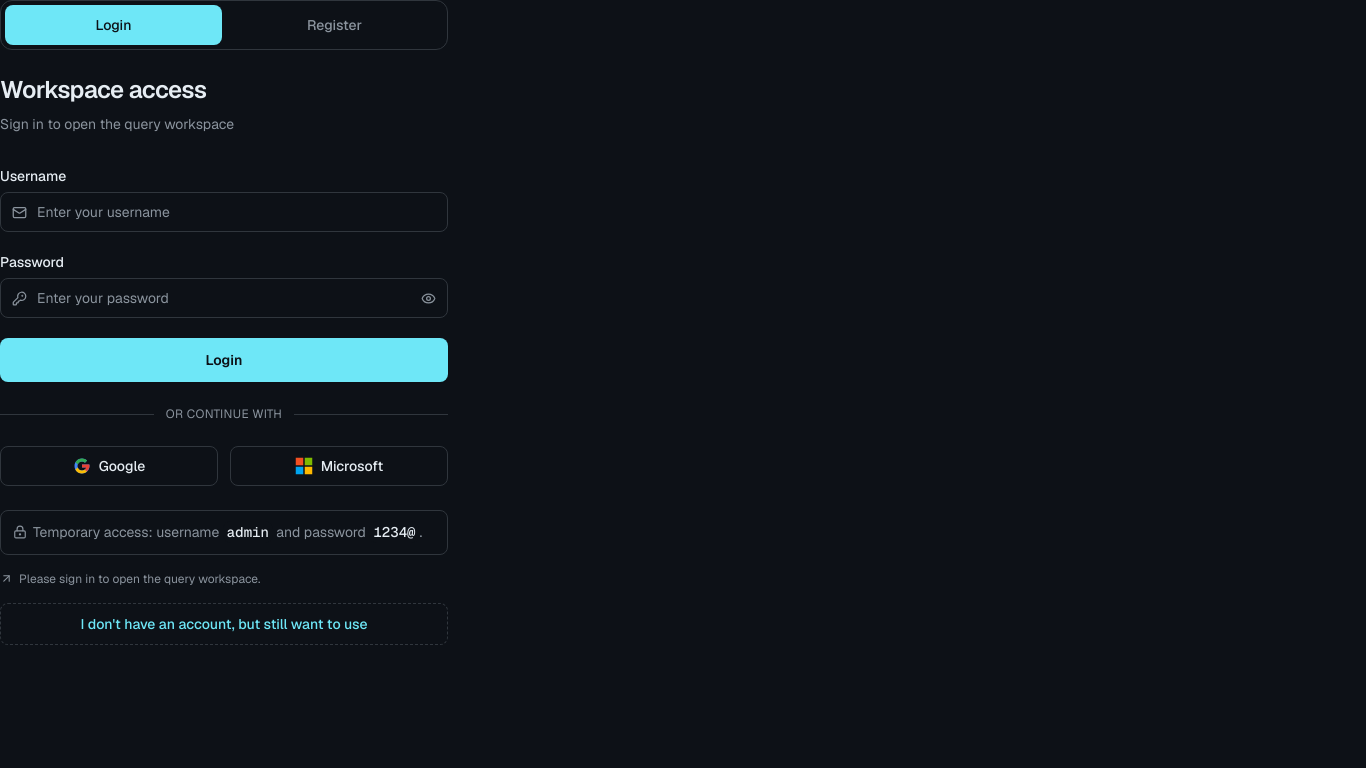
U35/U37-U41 — the disclosure dialog › U37 dismisses without creating a session or navigating
The width and height of the screenshot is (1366, 768).
Step 1. Click the button "I don't have an account, but still want to use" → (224, 624), box x1=0 y1=603 x2=448 y2=645
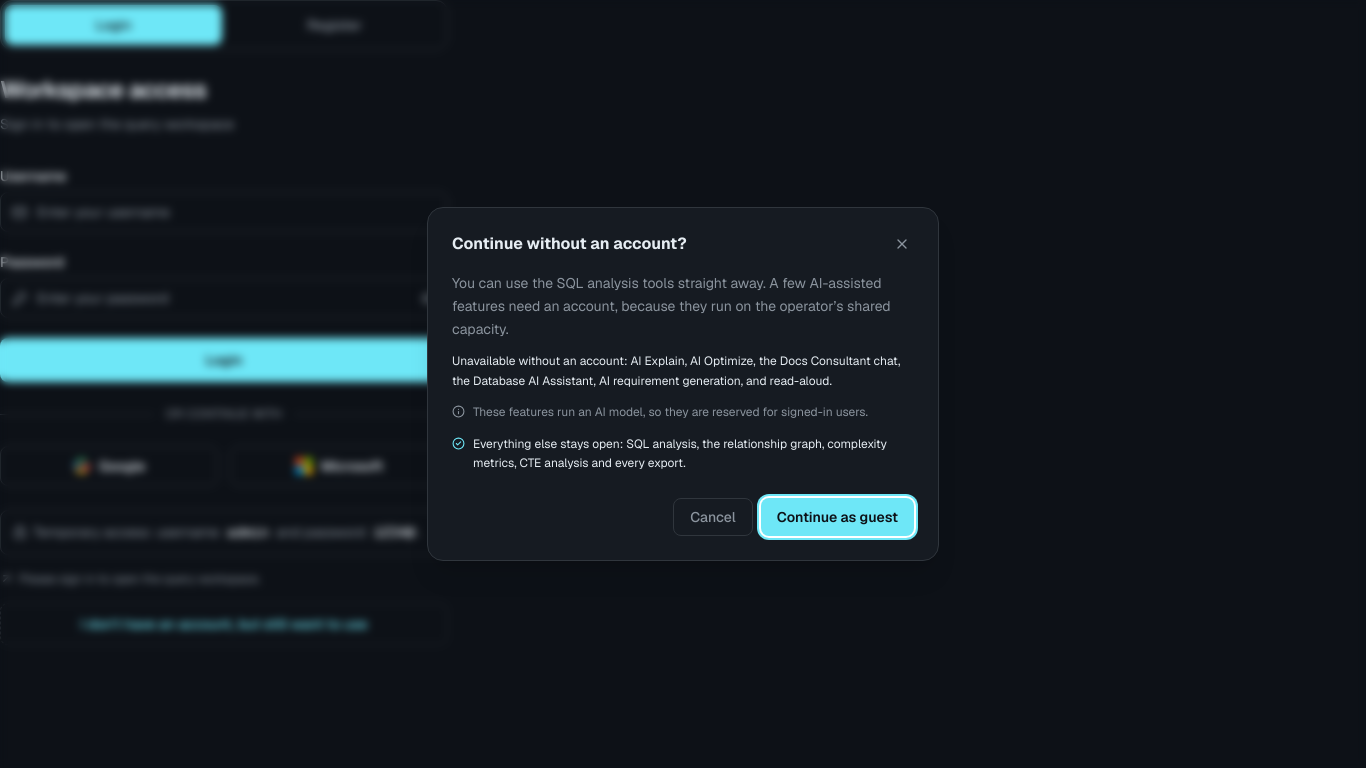
# The header × and the footer button share a label, so target the footer explicitly.
Step 2. Click the button "Cancel" → (713, 517), box x1=673 y1=498 x2=753 y2=536
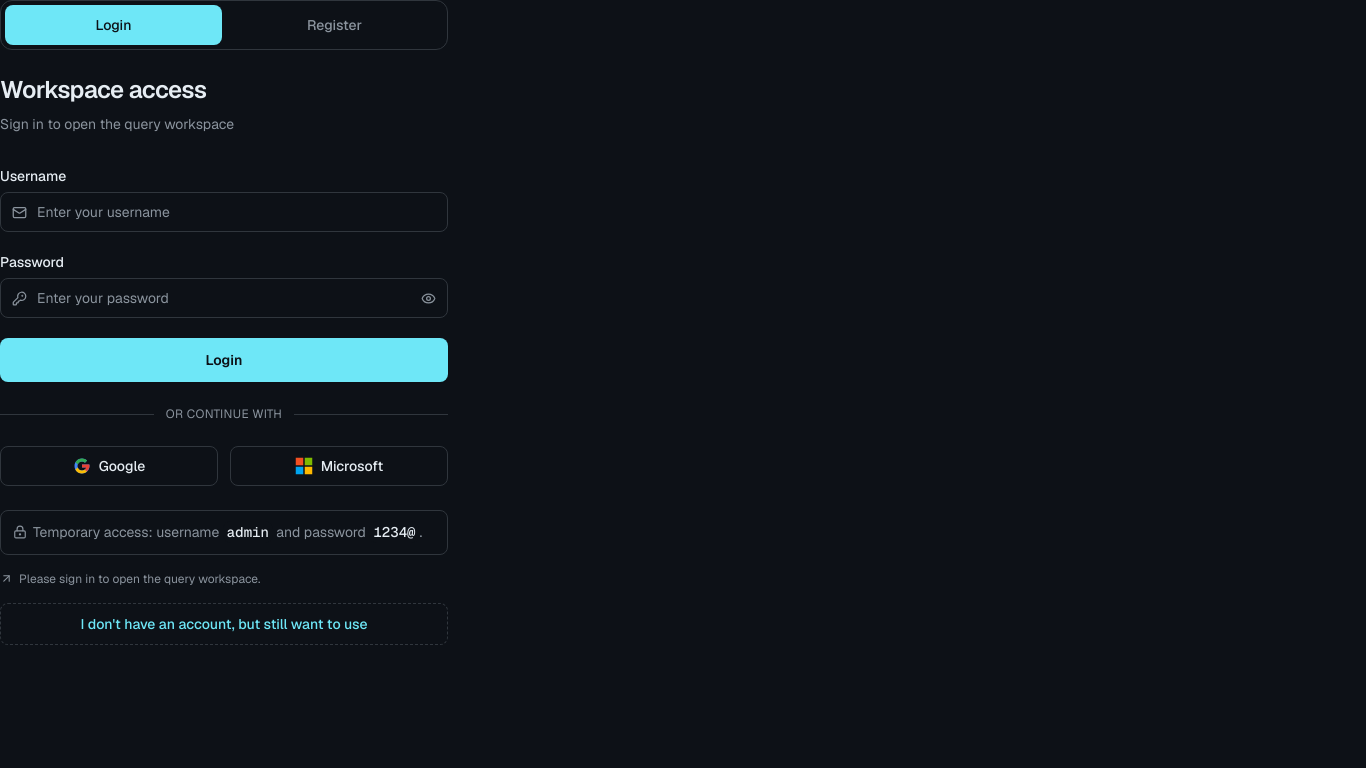
Now the dialog is gone
